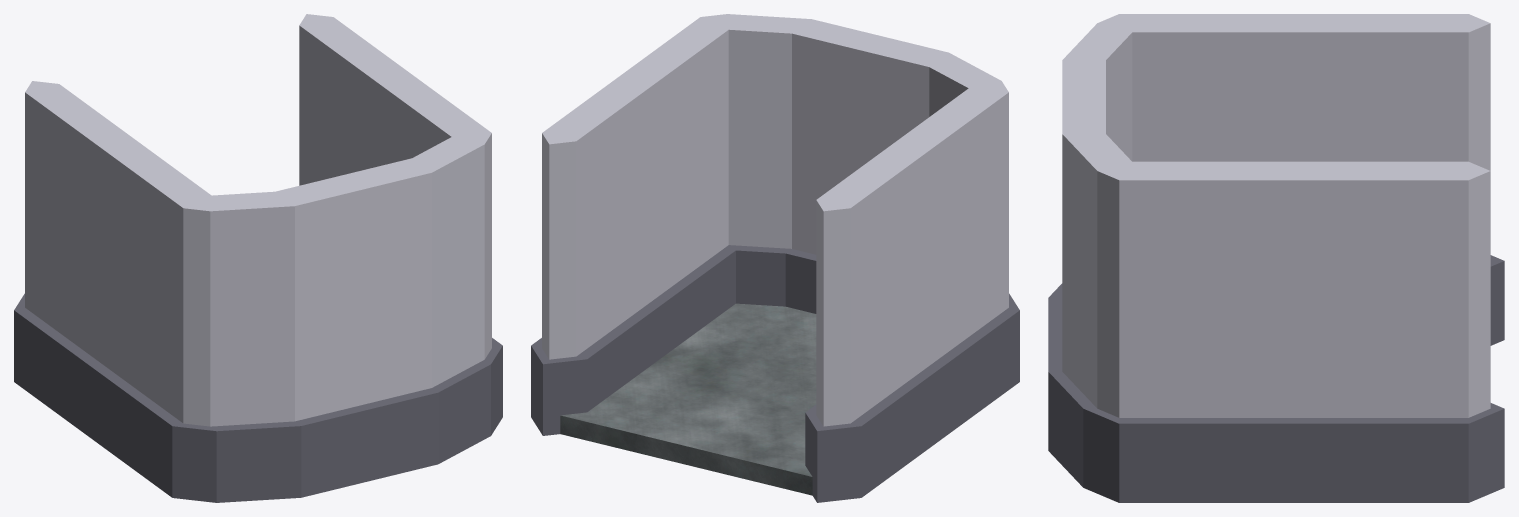
File: sm_hallway_end_05.fbx
The picture shows the model from 3 angles, left to right: view 1: azimuth 30°, elevation 25°; view 2: azimuth 150°, elevation 25°; view 3: azimuth 270°, elevation 25°; orthographic projection. The views are drawn at different scales.
Parts seen in each view (by area): view 1: wall_03_185, wall_01_172, wall_01_176; view 2: wall_01_172, wall_01_176, wall_03_185, floor_square_169; view 3: wall_01_176, wall_01_172, wall_03_185.
Boxes of the visible parts, x1,y1,x2,y2 form: wall_03_185: (177, 130, 502, 502); wall_01_172: (14, 81, 217, 502); wall_01_176: (299, 14, 502, 364); wall_01_172: (805, 82, 1019, 502); wall_01_176: (531, 14, 741, 435); wall_03_185: (702, 14, 1003, 313); floor_square_169: (560, 303, 816, 495); wall_01_176: (1083, 161, 1504, 502); wall_01_172: (1097, 14, 1504, 345); wall_03_185: (1048, 14, 1139, 502).
Size of the model in its own units: 12.05 by 10 by 13.05.
